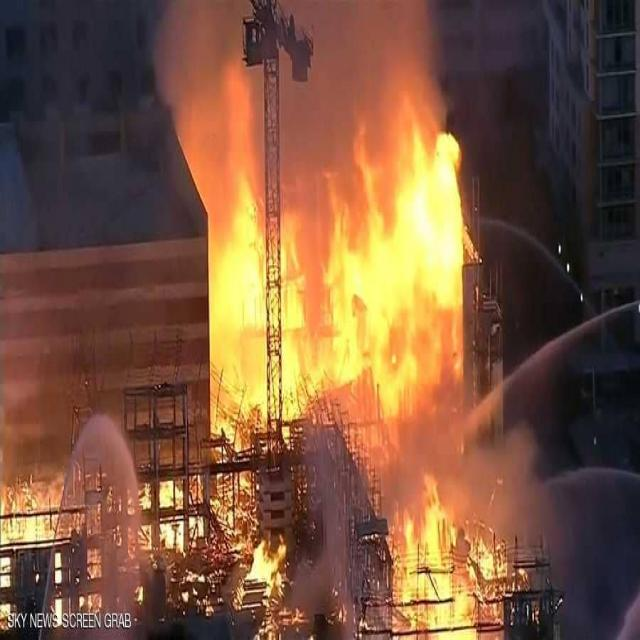fire: (208, 118, 464, 430), (390, 473, 534, 640), (0, 474, 186, 547), (243, 539, 287, 582)
